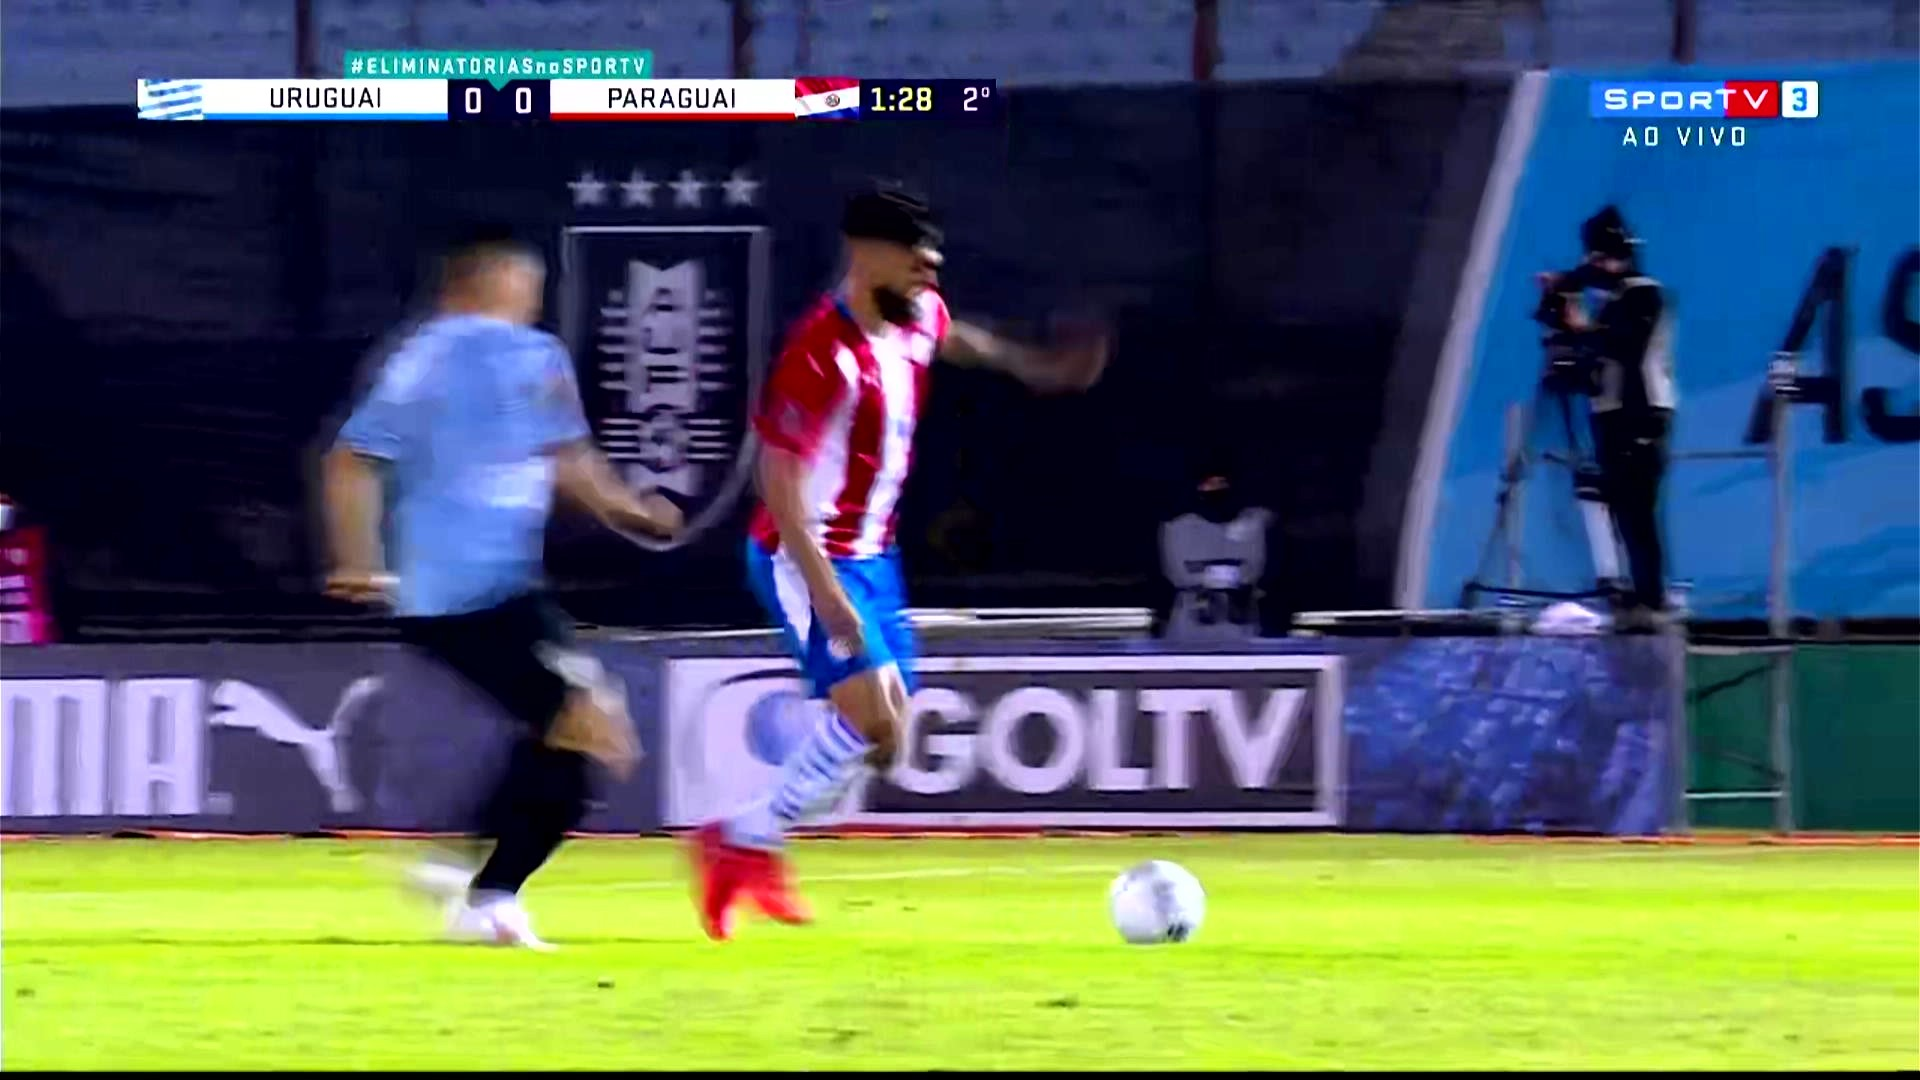SporTV3: (1586, 83, 1817, 117)
